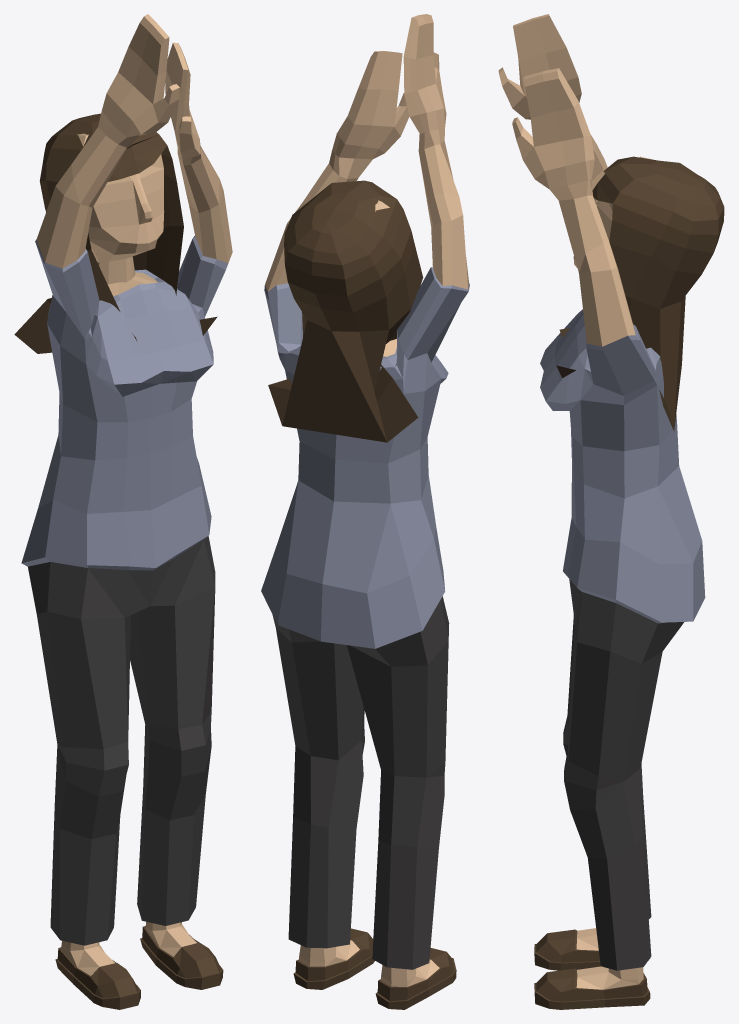
The model's file is Female_Crowd_ClappingOverhead.glb.
The picture shows the model from 3 angles, left to right: view 1: azimuth 30°, elevation 25°; view 2: azimuth 150°, elevation 25°; view 3: azimuth 270°, elevation 25°; orthographic projection. The views are drawn at different scales.
Visible parts, largest first — view 1: Female_Crowd_ClappingOverhead; view 2: Female_Crowd_ClappingOverhead; view 3: Female_Crowd_ClappingOverhead.
Part boxes in pixels (box(x1,y1,x2,y2)): Female_Crowd_ClappingOverhead: box(14, 14, 232, 1009); Female_Crowd_ClappingOverhead: box(261, 14, 469, 1009); Female_Crowd_ClappingOverhead: box(498, 14, 724, 1009).
Size of the model in its own units: 0.3989 by 1.94 by 0.4147.
